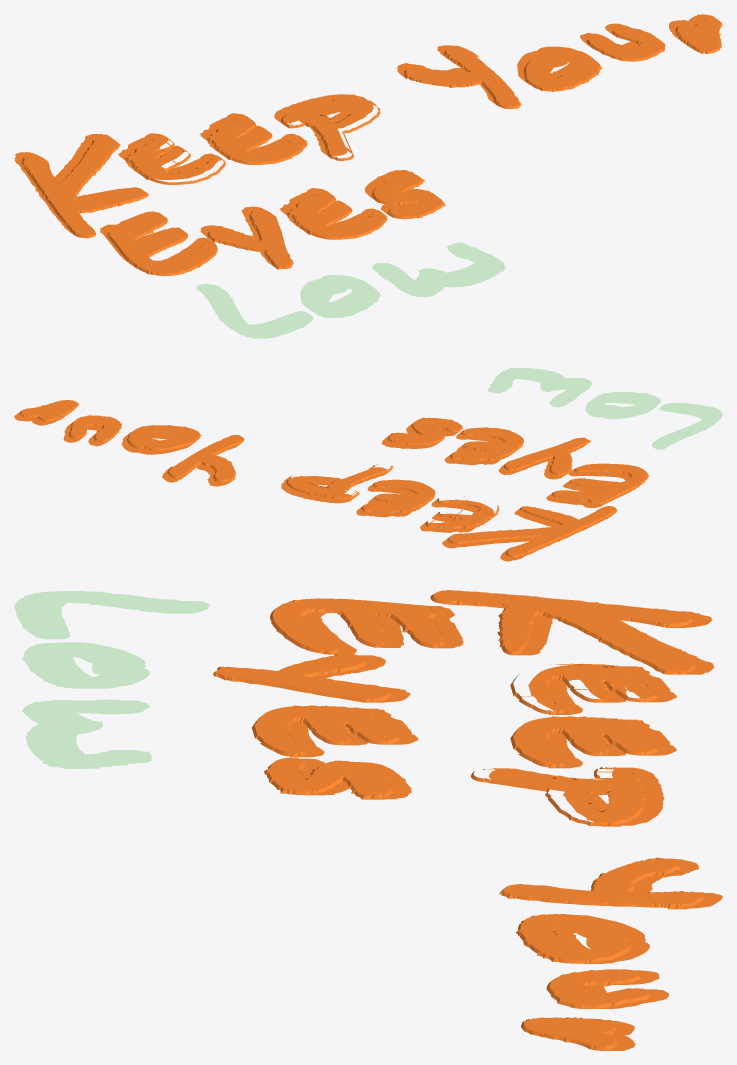
The model's file is render.gltf.
3 views of the same model, one above another, from view 1: azimuth 30°, elevation 25°; view 2: azimuth 150°, elevation 25°; view 3: azimuth 270°, elevation 25° (orthographic). The views are drawn at different scales.
Parts seen in each view (by area): view 1: Cap 1 (×2), Cap 2 (×2), Extrude, Rounding, Extrude.1; view 2: Cap 1 (×2), Cap 2 (×2), Extrude, Rounding, Extrude.1; view 3: Cap 1 (×2), Cap 2 (×2), Extrude, Rounding, Extrude.1.
Part boxes in pixels (x1=…): Cap 1 (×2): x1=23, y1=18, x2=720, y2=338; Cap 2 (×2): x1=15, y1=15, x2=714, y2=333; Extrude: x1=14, y1=14, x2=717, y2=272; Rounding: x1=21, y1=19, x2=722, y2=275; Extrude.1: x1=196, y1=242, x2=502, y2=336; Cap 1 (×2): x1=21, y1=367, x2=722, y2=555; Cap 2 (×2): x1=14, y1=372, x2=716, y2=561; Extrude: x1=14, y1=409, x2=643, y2=561; Rounding: x1=19, y1=401, x2=649, y2=557; Extrude.1: x1=487, y1=371, x2=722, y2=449; Cap 1 (×2): x1=14, y1=590, x2=701, y2=1047; Cap 2 (×2): x1=33, y1=591, x2=721, y2=1050; Extrude: x1=226, y1=591, x2=722, y2=1050; Rounding: x1=213, y1=593, x2=704, y2=1050; Extrude.1: x1=31, y1=591, x2=209, y2=768.
Bounding box in the file's own units: 1205 × 11.75 × 786.
